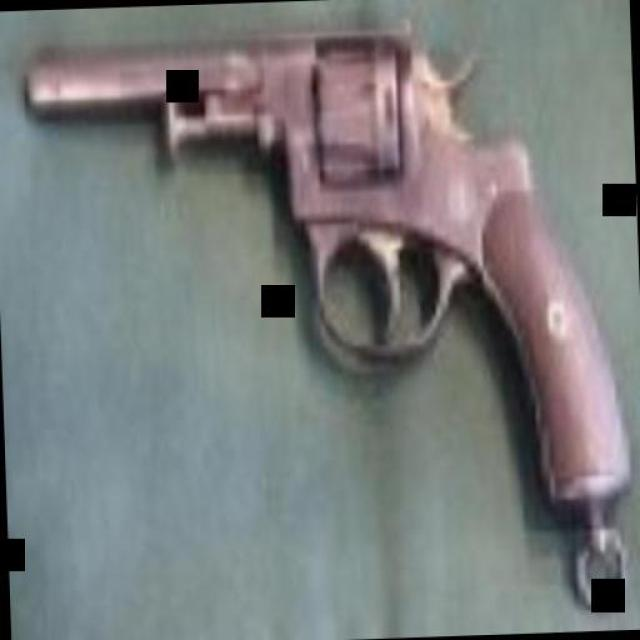gun: (16, 4, 626, 525)
